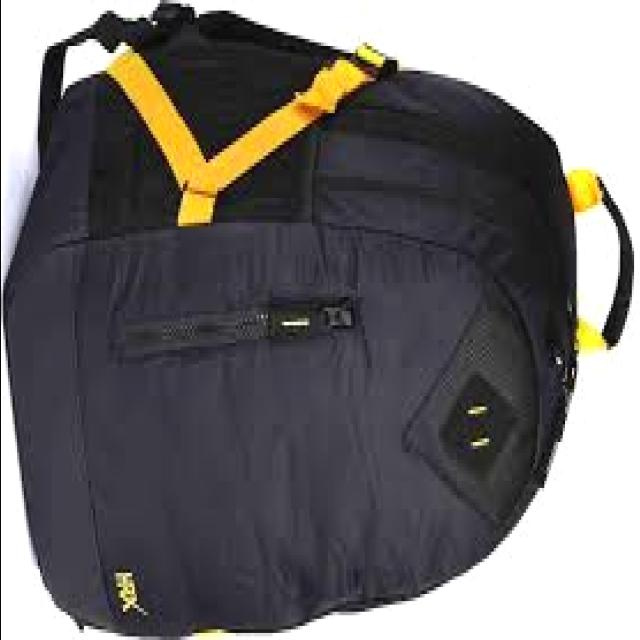backpack: (4, 1, 637, 637)
